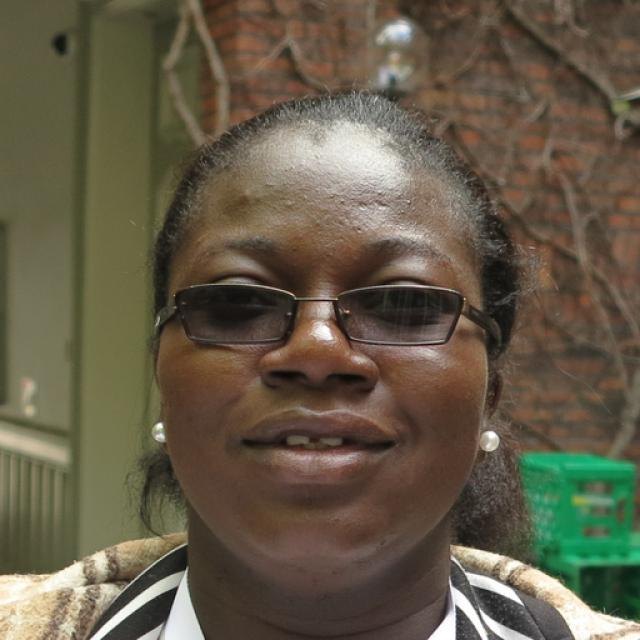Acne: (234, 186, 258, 207), (279, 195, 300, 219), (257, 173, 281, 193)
